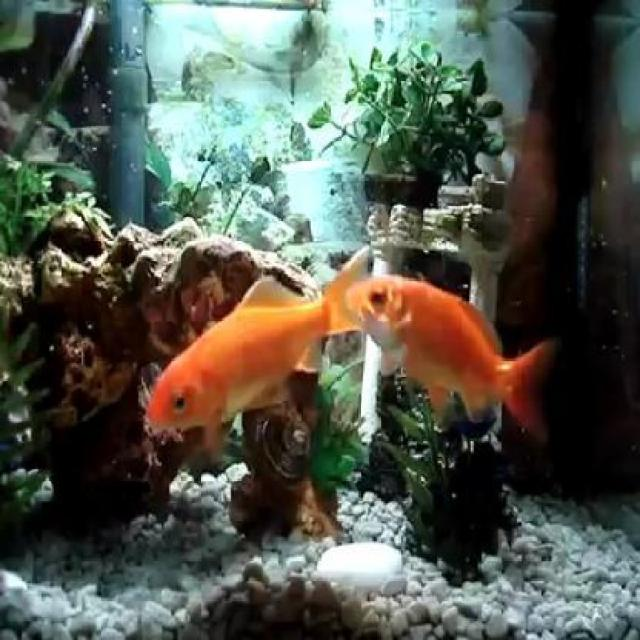GoldFish: (333, 252, 553, 434), (143, 281, 331, 439)
